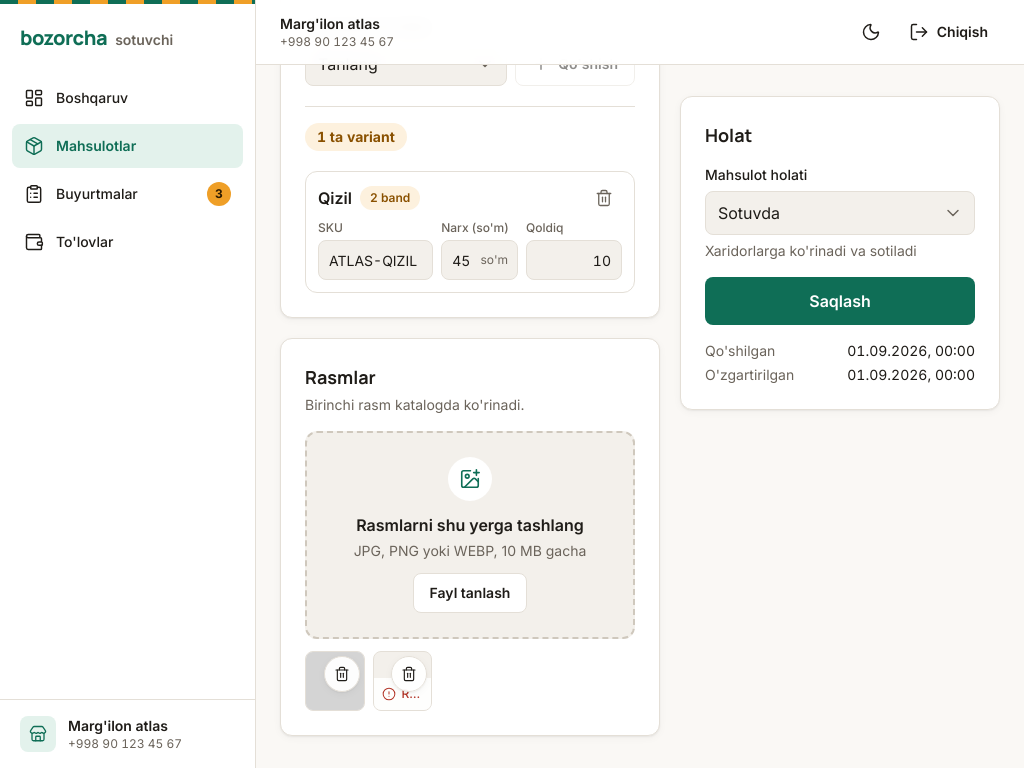
Test case: ProductEditorPage: images › puts the image back when the delete fails
(page scrolled)
What coordinates should you click on to do the following:
click the button named "O'chirish: 2-rasm"
I would click on:
 (409, 674)
Its box is [391, 656, 427, 692].
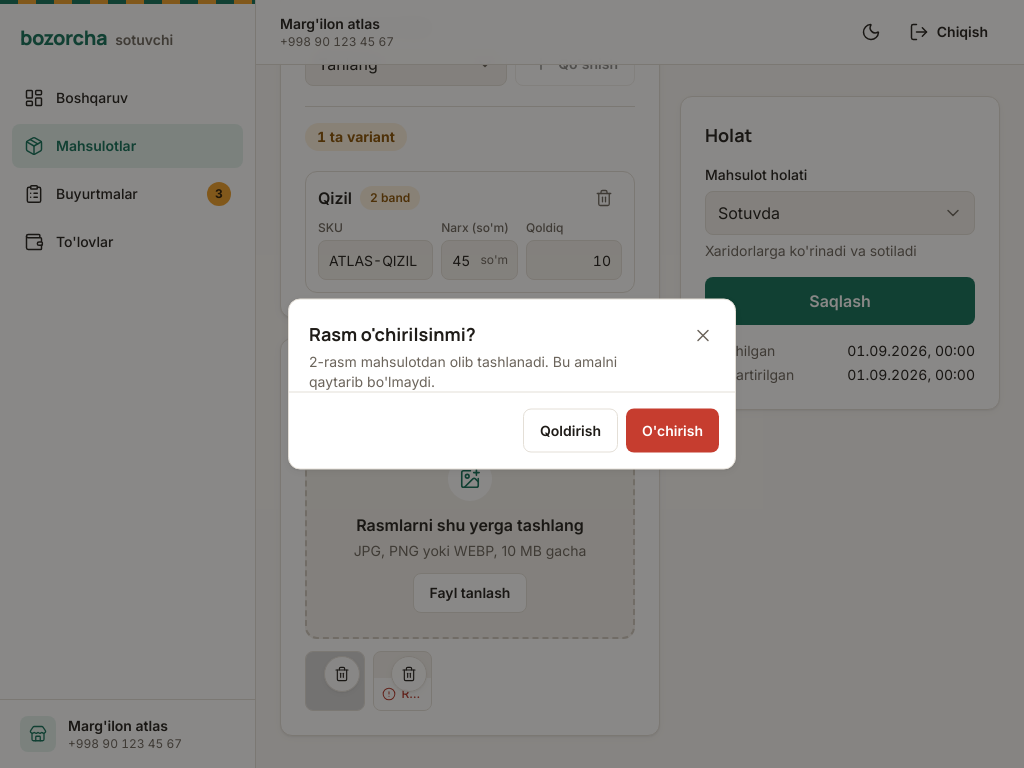
What coordinates should you click on to do the following:
click the button "O'chirish"
I would click on:
 (672, 430)
Its box is [626, 408, 719, 452].
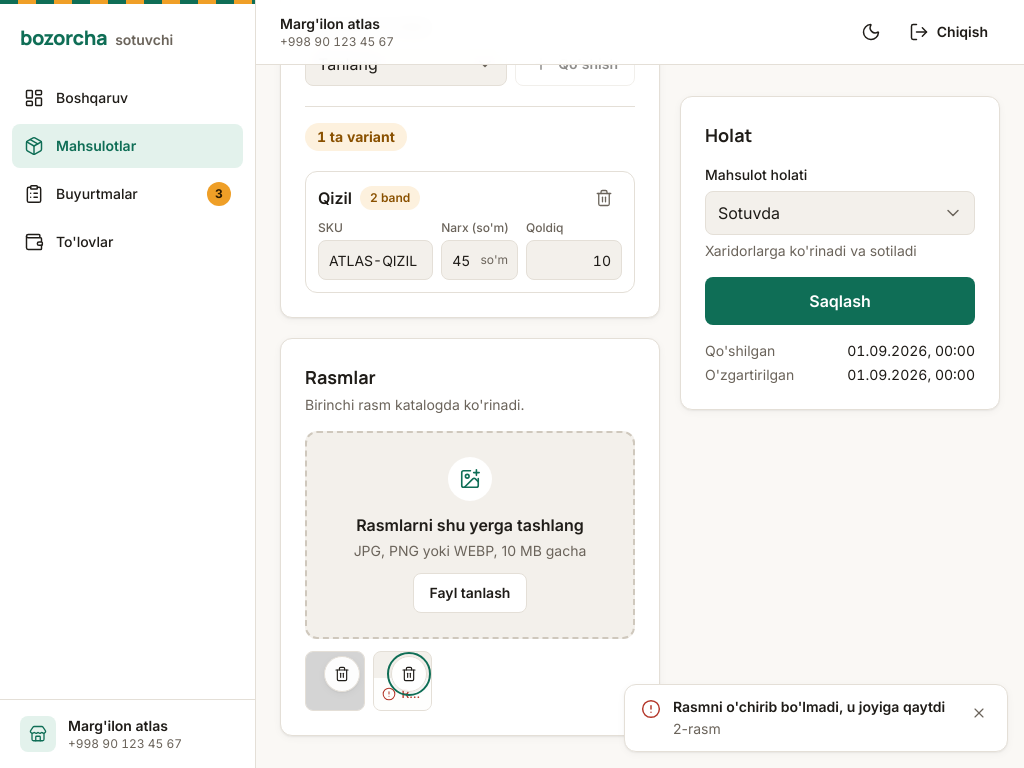
Expected: the text "Rasmni o'chirib bo'lmadi, u joyiga qaytdi" is shown, [673, 697, 951, 717]
